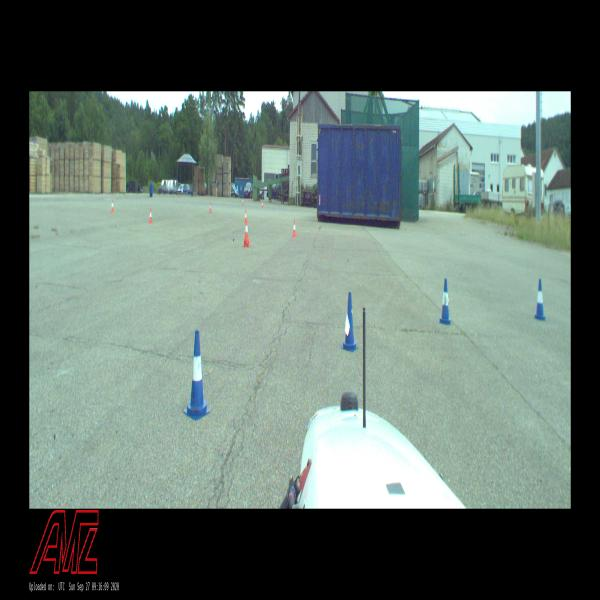blue_cone: (183, 331, 210, 420), (341, 292, 358, 352), (439, 278, 451, 325), (535, 278, 546, 321)
orange_cone: (244, 220, 249, 240), (292, 220, 296, 237), (149, 208, 153, 223), (244, 210, 248, 223), (111, 200, 114, 212), (209, 202, 212, 213), (262, 201, 264, 209), (242, 198, 244, 205)
